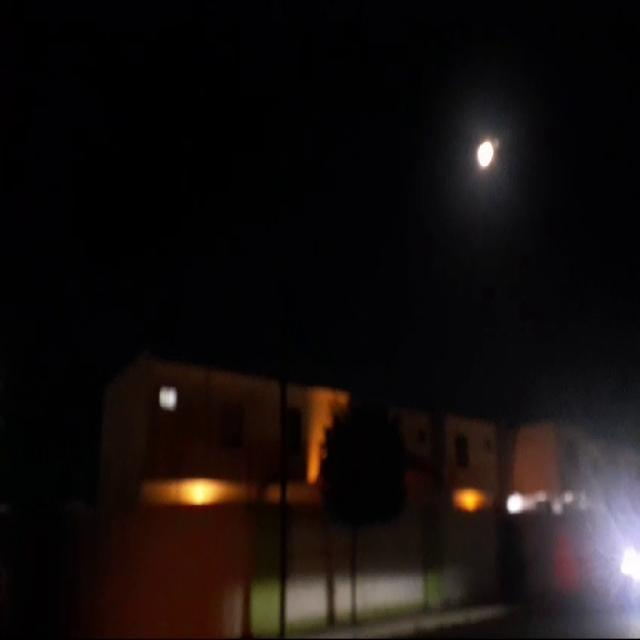moon: (472, 135, 492, 169)
